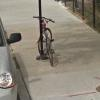Bicycle: (30, 10, 66, 76)
